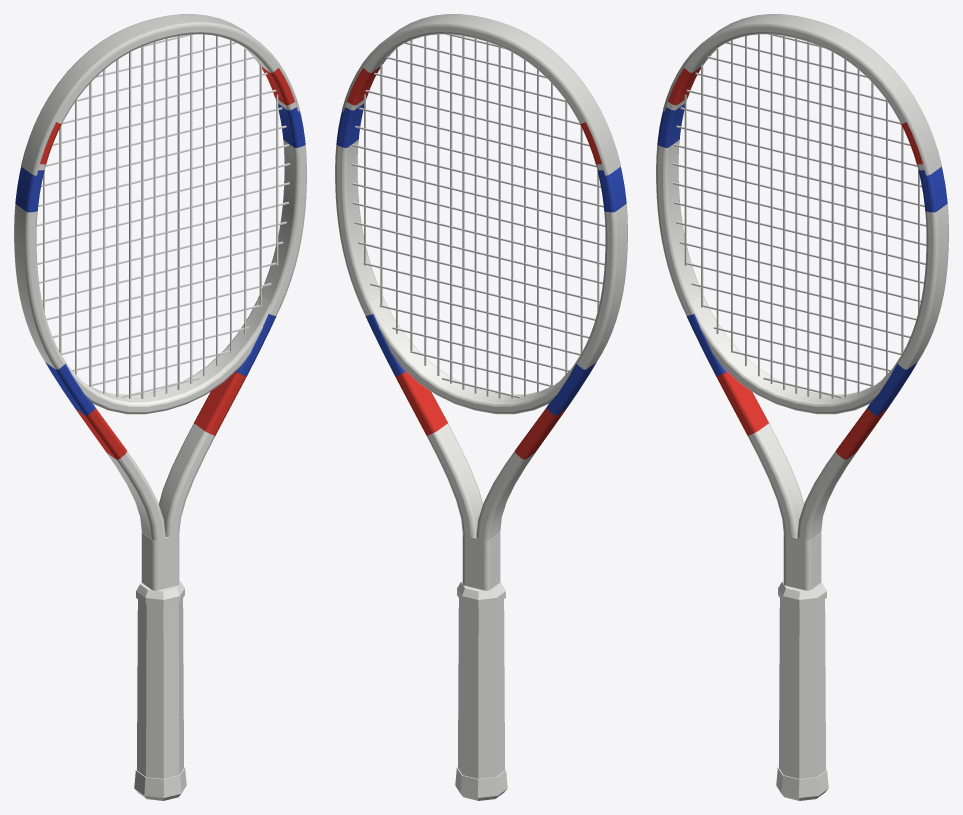
Rendered from tecnifibre-tfight-2025.glb.
3 views of the same model, side by side, from view 1: azimuth 30°, elevation 25°; view 2: azimuth 150°, elevation 25°; view 3: azimuth 330°, elevation 25° (orthographic).
Visible parts, largest first — view 1: frame, strings_mains, strings_crosses, grip, bumper, butt_cap, collar; view 2: frame, strings_mains, strings_crosses, grip, bumper, butt_cap, collar; view 3: frame, strings_mains, strings_crosses, grip, bumper, butt_cap, collar.
Part boxes in pixels (left/top/right/bottom): frame: left=14, top=26, right=306, bottom=590; strings_mains: left=43, top=34, right=278, bottom=398; strings_crosses: left=36, top=34, right=290, bottom=397; grip: left=137, top=598, right=183, bottom=778; bumper: left=21, top=14, right=299, bottom=175; butt_cap: left=134, top=767, right=186, bottom=800; collar: left=136, top=581, right=184, bottom=606; frame: left=335, top=26, right=627, bottom=590; strings_mains: left=364, top=34, right=599, bottom=398; strings_crosses: left=351, top=34, right=605, bottom=398; grip: left=458, top=598, right=504, bottom=778; bumper: left=342, top=14, right=620, bottom=175; butt_cap: left=455, top=767, right=507, bottom=800; collar: left=457, top=581, right=505, bottom=606; frame: left=656, top=26, right=948, bottom=590; strings_mains: left=684, top=34, right=919, bottom=398; strings_crosses: left=672, top=34, right=926, bottom=397; grip: left=779, top=598, right=825, bottom=778; bumper: left=663, top=14, right=941, bottom=175; butt_cap: left=776, top=767, right=828, bottom=800; collar: left=778, top=581, right=826, bottom=606.
Bounding box in the file's own units: 0.2634 × 0.6861 × 0.0396.
